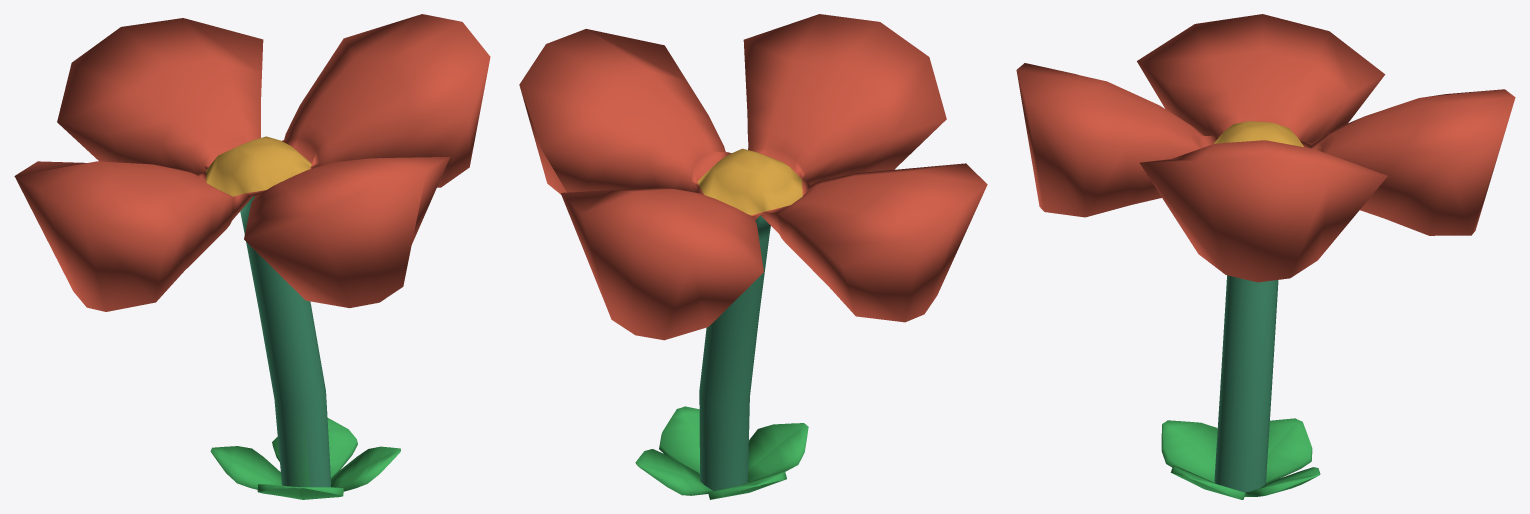
Rendered from RedFlower.fbx.
3 renders of one model, left to right at view 1: azimuth 30°, elevation 25°; view 2: azimuth 150°, elevation 25°; view 3: azimuth 270°, elevation 25°, orthographic. The views are drawn at different scales.
Visible parts, largest first — view 1: BlueFlower.114; view 2: BlueFlower.114; view 3: BlueFlower.114.
Boxes of the visible parts, x1,y1,x2,y2 form: BlueFlower.114: (14, 14, 490, 499); BlueFlower.114: (519, 14, 987, 499); BlueFlower.114: (1016, 14, 1515, 499).
Size of the model in its own units: 102 by 96 by 105.
